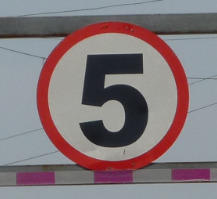speed_limit_5: (35, 21, 190, 172)
